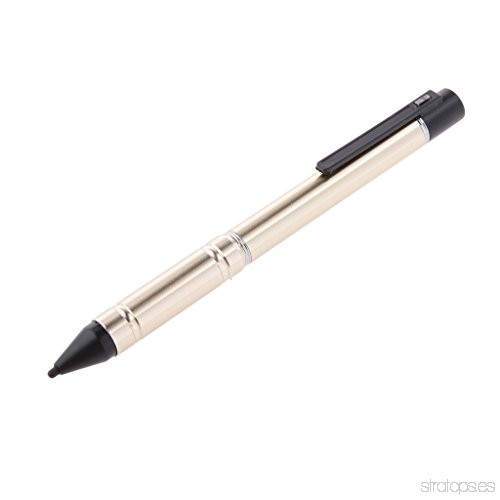Boligrafo: (42, 87, 467, 380)
